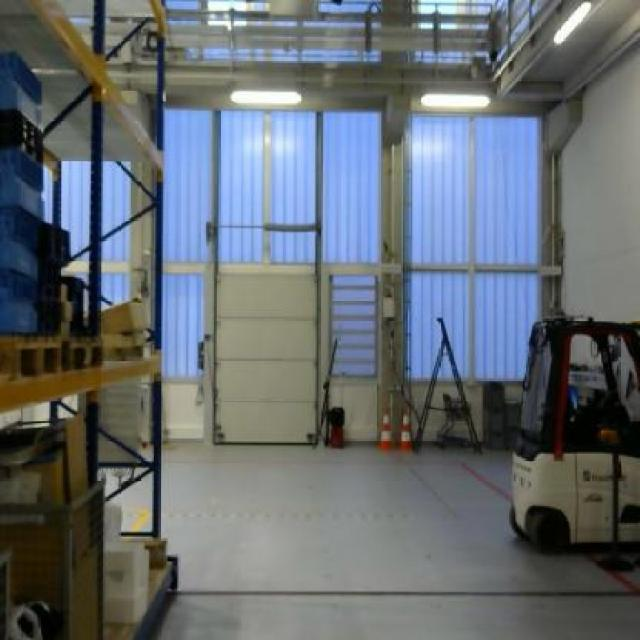box: (101, 298, 147, 334)
